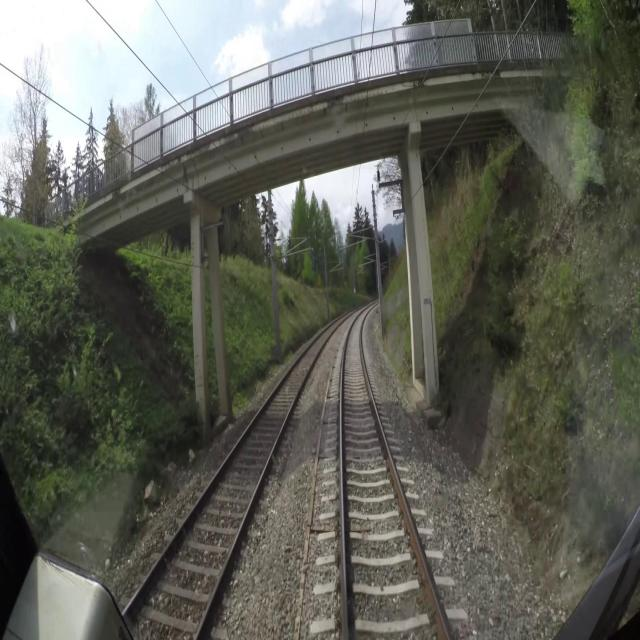rail-track: (125, 321, 338, 639), (343, 308, 448, 639)
